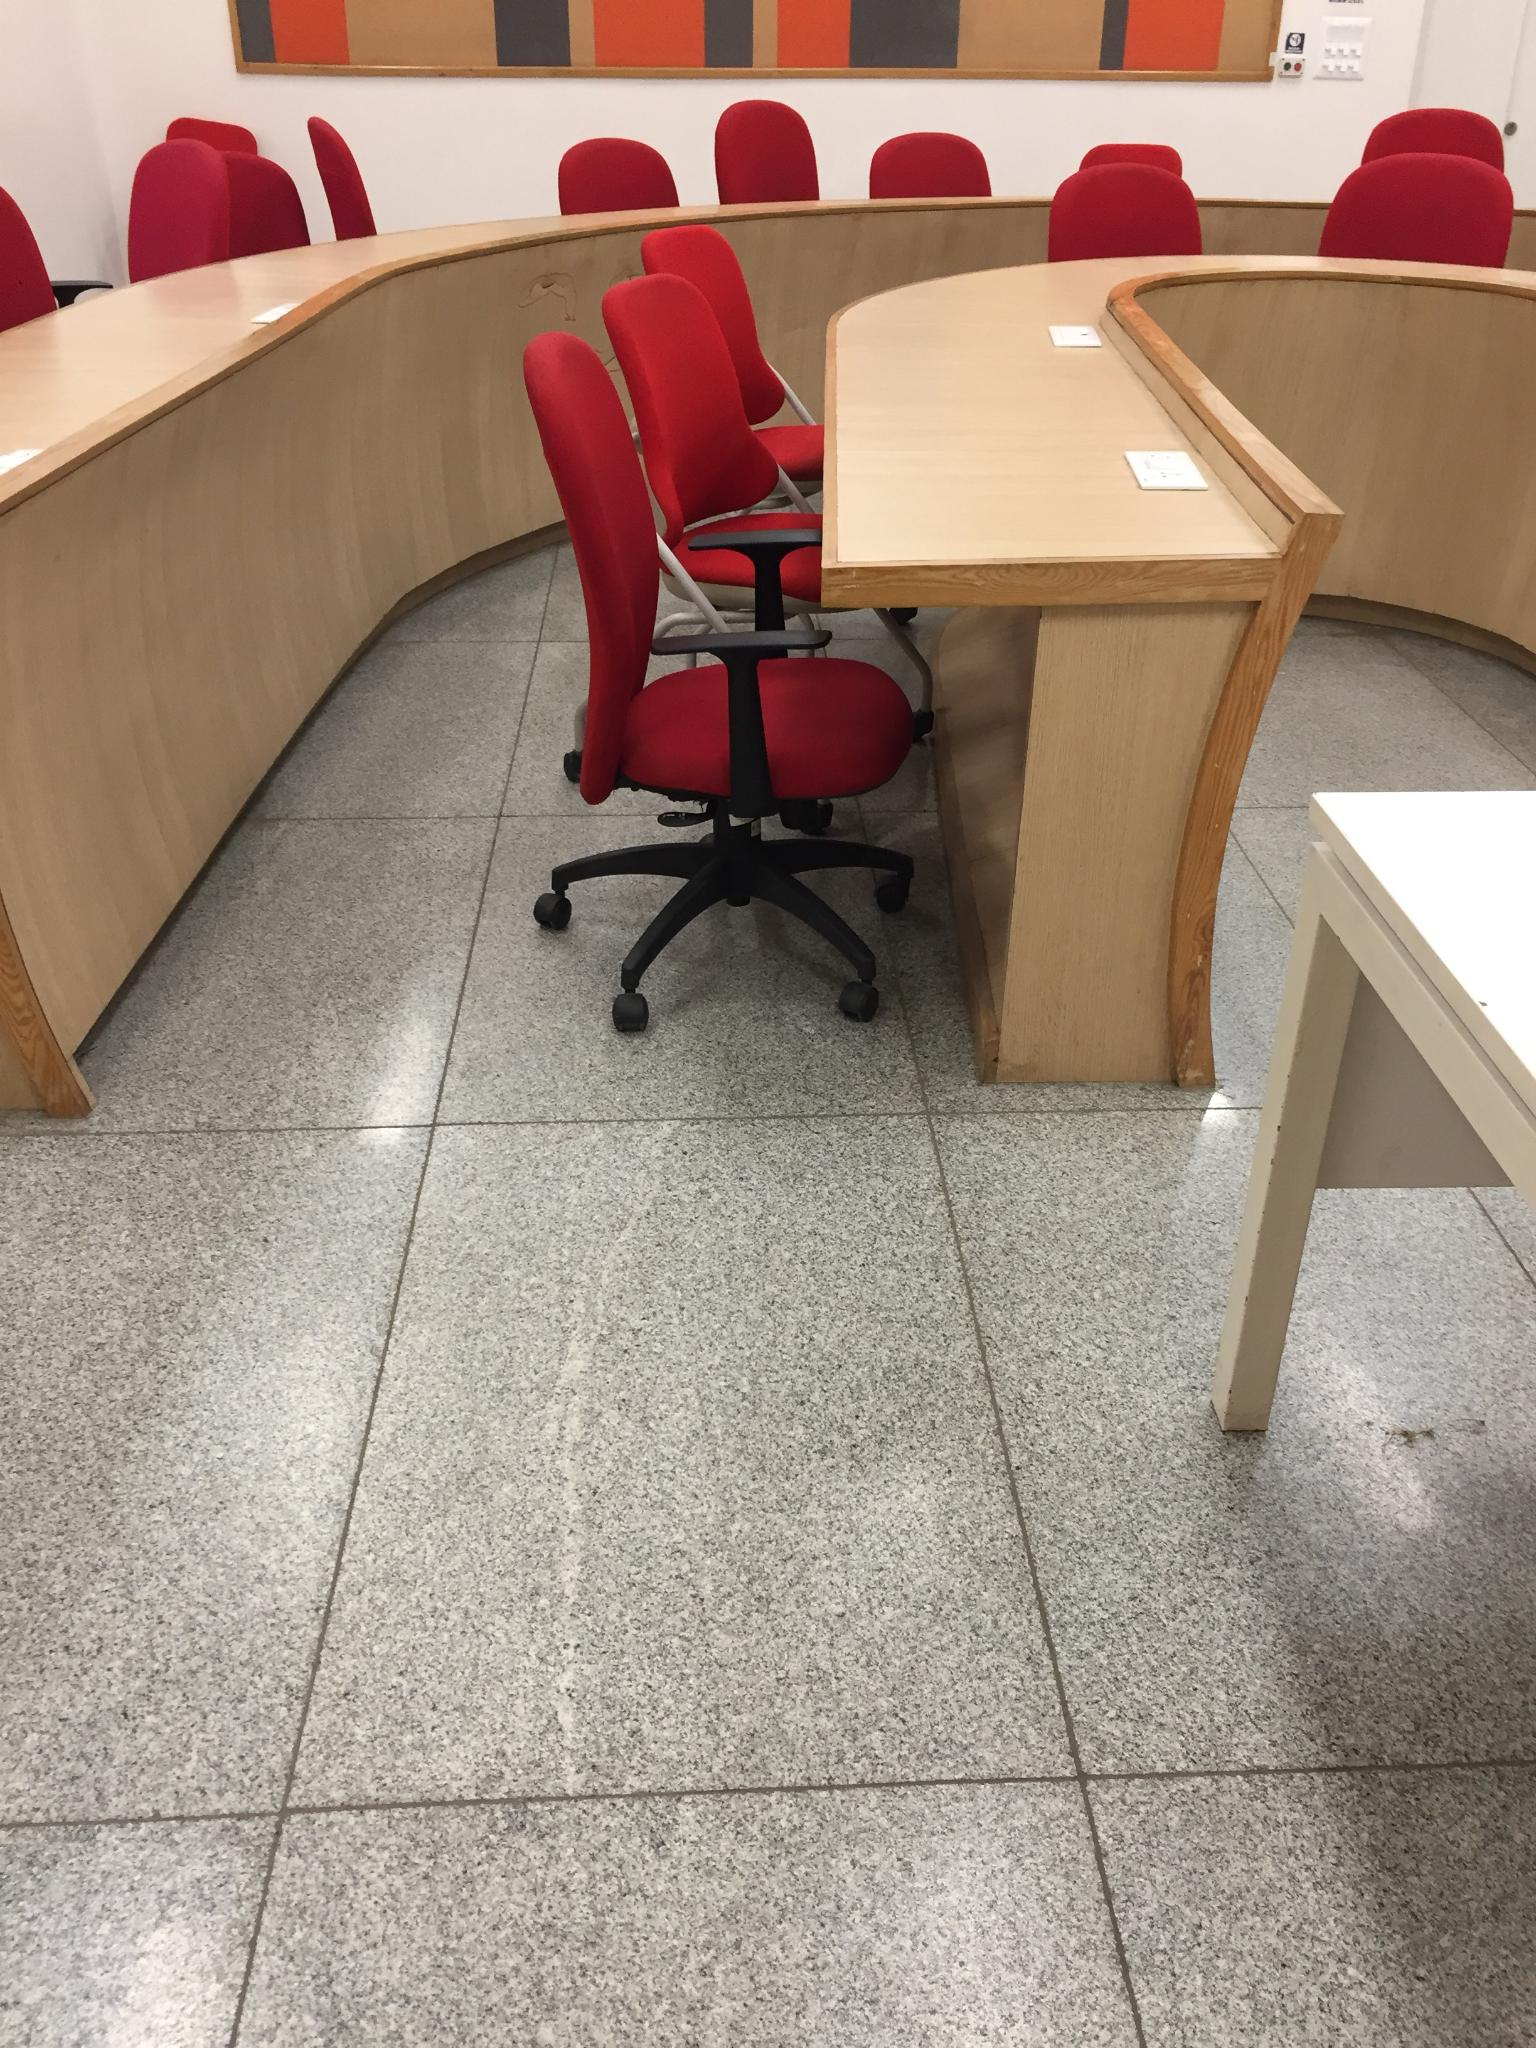chair: (520, 331, 928, 1032), (579, 269, 905, 663), (644, 224, 905, 568), (105, 105, 297, 339), (1318, 152, 1515, 269), (700, 97, 821, 239), (0, 174, 82, 374), (1047, 163, 1202, 261), (526, 131, 681, 226), (715, 98, 820, 205), (557, 137, 679, 216), (1360, 106, 1504, 171), (308, 114, 376, 240), (868, 132, 992, 198), (1078, 142, 1181, 174)
